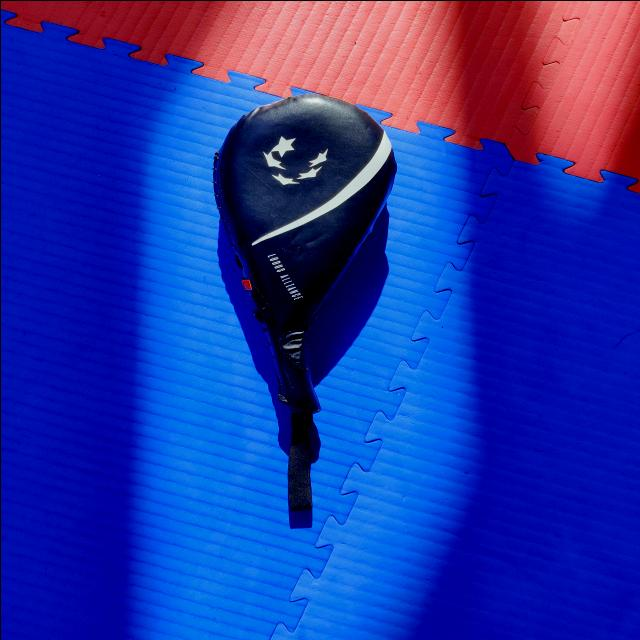paddle: (205, 90, 402, 417)
